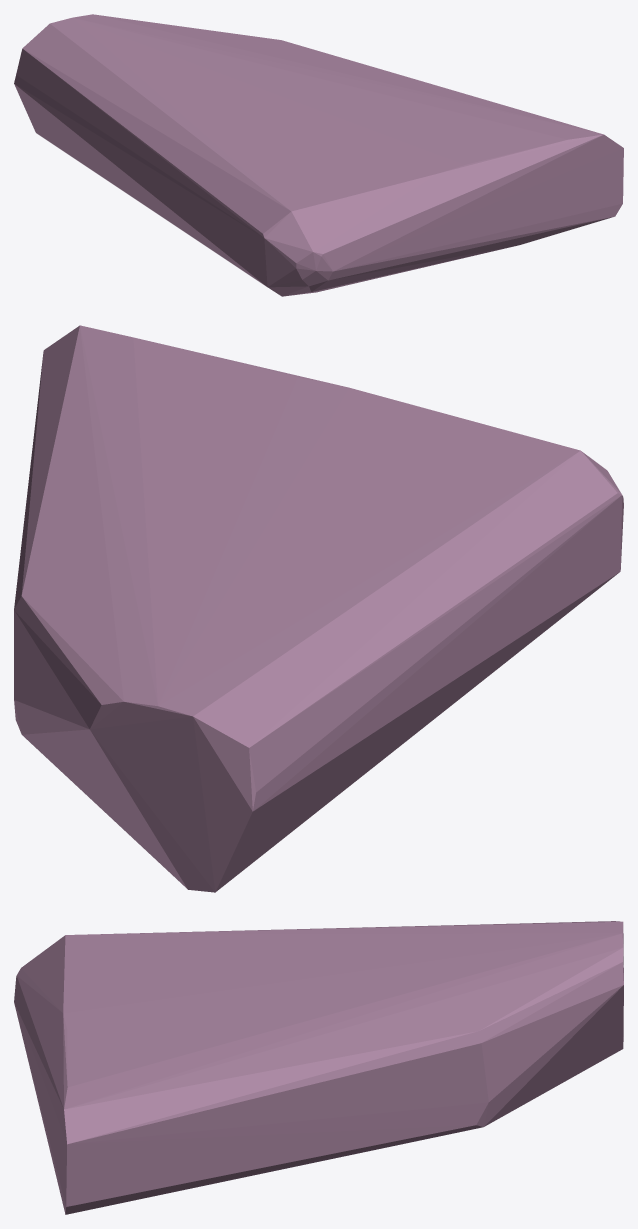
Rendered from fauset_bathroom_a01.glb.
3 views of the same model, one above another, from view 1: azimuth 30°, elevation 25°; view 2: azimuth 150°, elevation 25°; view 3: azimuth 270°, elevation 25° (orthographic). The views are drawn at different scales.
Parts seen in each view (by area): view 1: geometry_0; view 2: geometry_0; view 3: geometry_0.
Boxes of the visible parts, left/top/right/bottom form: geometry_0: left=14, top=14, right=623, bottom=296; geometry_0: left=14, top=325, right=623, bottom=892; geometry_0: left=14, top=921, right=623, bottom=1214.
Bounding box in the file's own units: 0.388 × 0.1095 × 0.4793.
